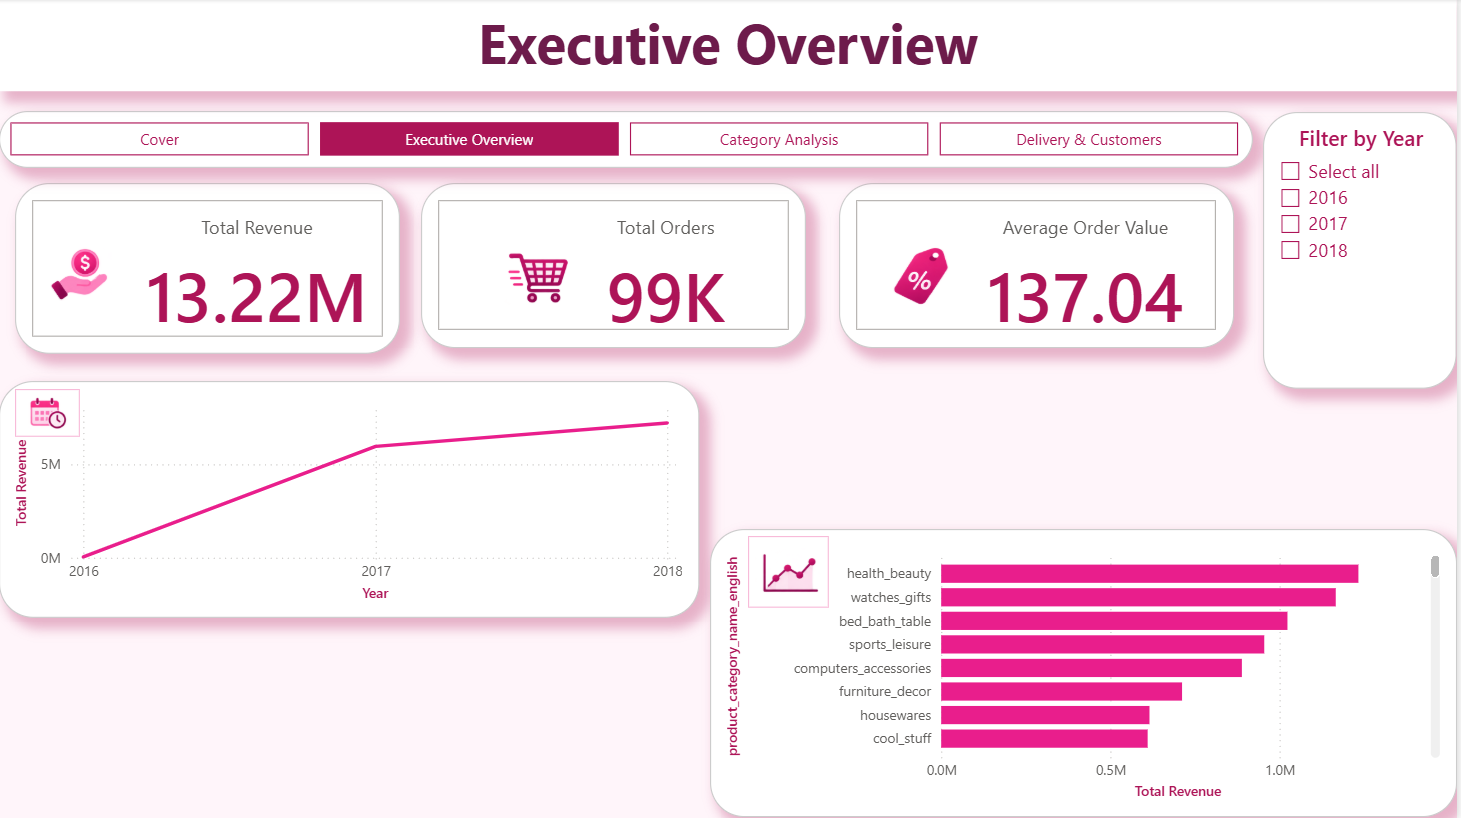

What the dashboard file says about the page in this screenshot:
{"tool":"powerbi","page":{"name":"Executive Overview","canvas":[1280,720],"ordinal":1},"visuals":[{"type":"cardVisual","fields":{"Data":["Key Measures.Total Revenue"]},"box":[14,161.6,338,150.1],"z":0},{"type":"cardVisual","fields":{"Data":["Key Measures.Total Orders"]},"box":[370.5,161.6,338,144.9],"z":1000},{"type":"lineChart","fields":{"Category":["olist_orders_dataset.order_purchase_timestamp.Variation.Date Hierarchy.Year","olist_orders_dataset.order_purchase_timestamp.Variation.Date Hierarchy.Quarter","olist_orders_dataset.order_purchase_timestamp.Variation.Date Hierarchy.Month","olist_orders_dataset.order_purchase_timestamp.Variation.Date Hierarchy.Day"],"Y":["Key Measures.Total Revenue"]},"box":[0,335.6,614.7,208.1],"z":2000},{"type":"clusteredBarChart","fields":{"Y":["Key Measures.Total Revenue"],"Category":["product_category_name_translation.product_category_name_english"]},"box":[624.1,465.4,655.9,252.9],"z":3000},{"type":"cardVisual","fields":{"Data":["Key Measures.Average Order Value"]},"box":[737.6,161.6,346.8,144.9],"z":4000},{"type":"pageNavigator","box":[0,98.2,1101,49.6],"z":5000},{"type":"textbox","box":[0,0,1280,80.7],"z":6000},{"type":"image","box":[14,342.4,57.1,42.1],"z":7000},{"type":"image","box":[657.7,471.5,71.1,63.2],"z":8000},{"type":"listSlicer","title":"Filter by Year","fields":{"Values":["olist_orders_dataset.order_purchase_timestamp.Variation.Date Hierarchy.Year"]},"box":[1109.9,99.2,170.3,243.2],"z":9000}]}

Visuals, with their boxes in screenshot pixels (x1, y1, x2, y2), scaled from the page's 1280x720 canvas onto the 1461x818 screenshot:
cardVisual - Key Measures.Total Revenue: <bbox>16, 184, 402, 354</bbox>
cardVisual - Key Measures.Total Orders: <bbox>423, 184, 809, 348</bbox>
lineChart - olist_orders_dataset.order_purchase_timestamp.Variation.Date Hierarchy.Year x olist_orders_dataset.order_purchase_timestamp.Variation.Date Hierarchy.Quarter: <bbox>0, 381, 702, 618</bbox>
clusteredBarChart - Key Measures.Total Revenue x product_category_name_translation.product_category_name_english: <bbox>712, 529, 1460, 816</bbox>
cardVisual - Key Measures.Average Order Value: <bbox>842, 184, 1238, 348</bbox>
pageNavigator: <bbox>0, 112, 1257, 168</bbox>
textbox: <bbox>0, 0, 1460, 92</bbox>
image: <bbox>16, 389, 81, 437</bbox>
image: <bbox>751, 536, 832, 607</bbox>
"Filter by Year" listSlicer: <bbox>1267, 113, 1460, 389</bbox>
